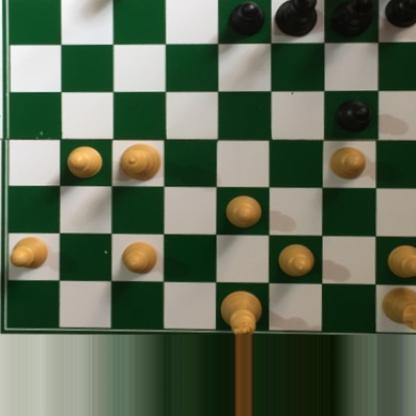black-bishop: (325, 0, 373, 37)
black-king: (273, 0, 319, 39)
black-pawn: (227, 0, 265, 36), (335, 99, 372, 132), (384, 0, 416, 29)
white-king: (218, 287, 263, 335)
white-pawn: (276, 243, 318, 280), (9, 232, 50, 269), (328, 146, 368, 180), (224, 194, 263, 228), (65, 146, 105, 179), (120, 241, 159, 274), (384, 245, 416, 279)
white-queen: (119, 140, 164, 183)
white-rook: (378, 283, 416, 331)
